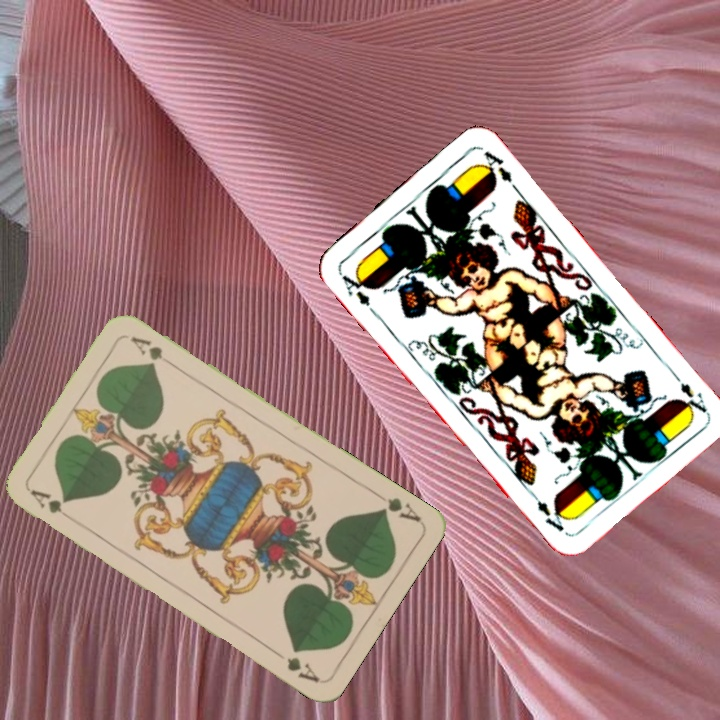EA: (667, 367, 710, 419), (335, 267, 374, 309)
GA: (370, 487, 424, 525), (26, 485, 76, 525)
